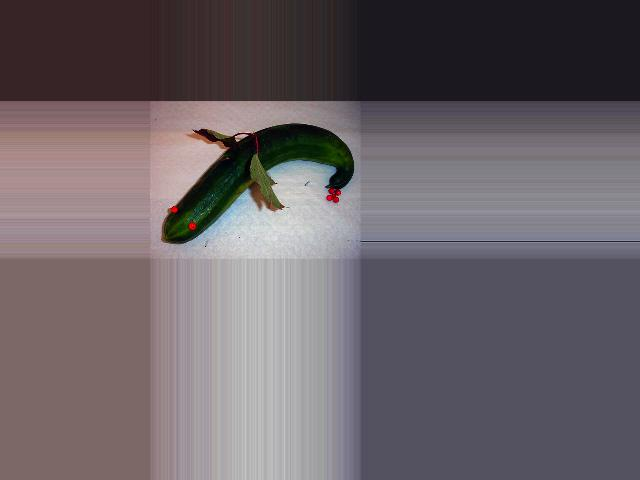cucumber: (164, 123, 354, 243)
